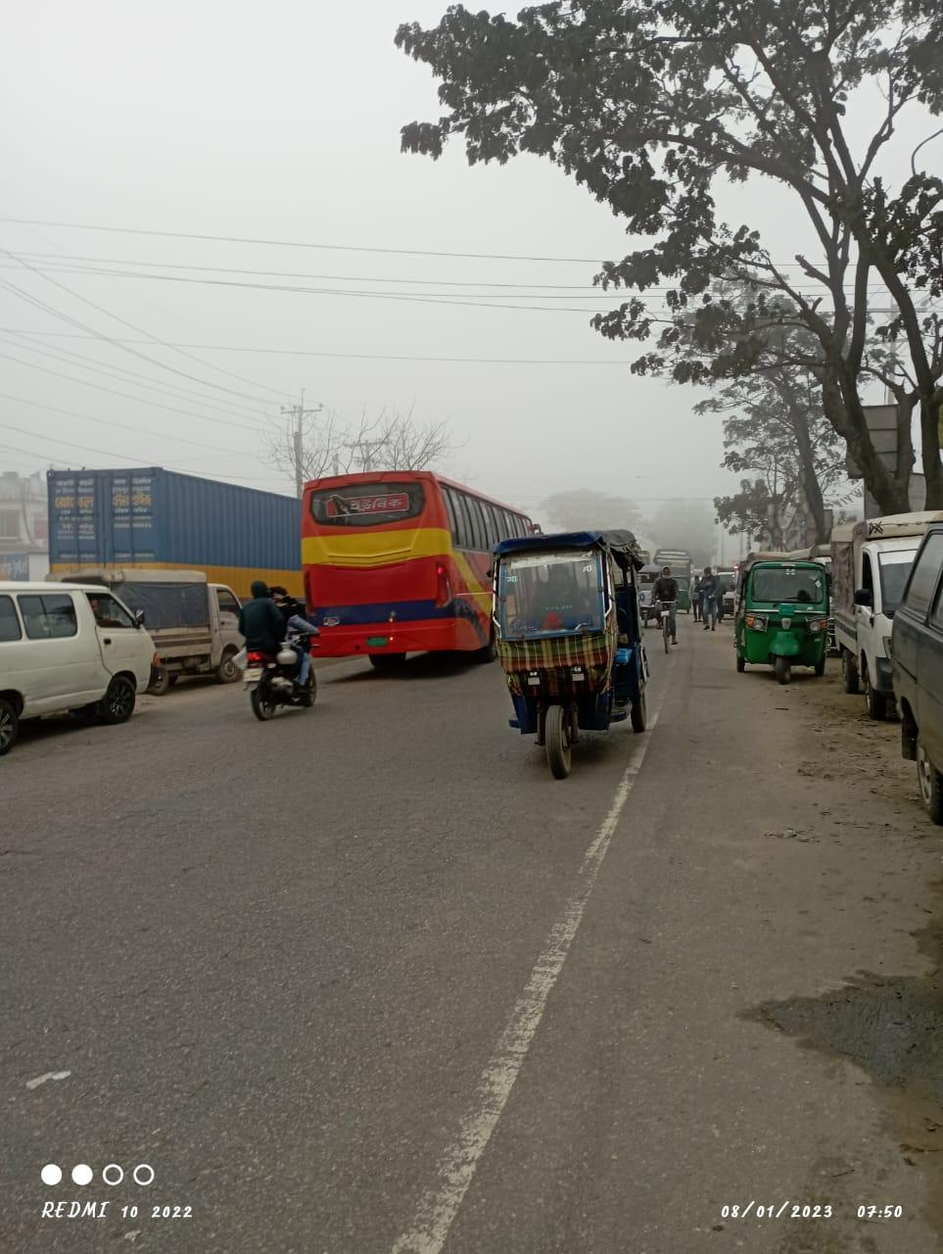Bike: (233, 565, 323, 718)
Bus: (294, 448, 487, 675)
Car: (482, 525, 662, 791), (1, 564, 165, 745), (108, 546, 255, 695)
Truck: (36, 451, 304, 596)
